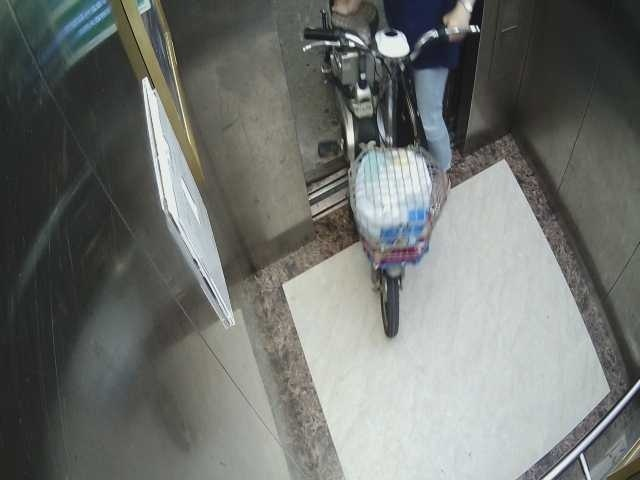emotor: (292, 1, 472, 339)
